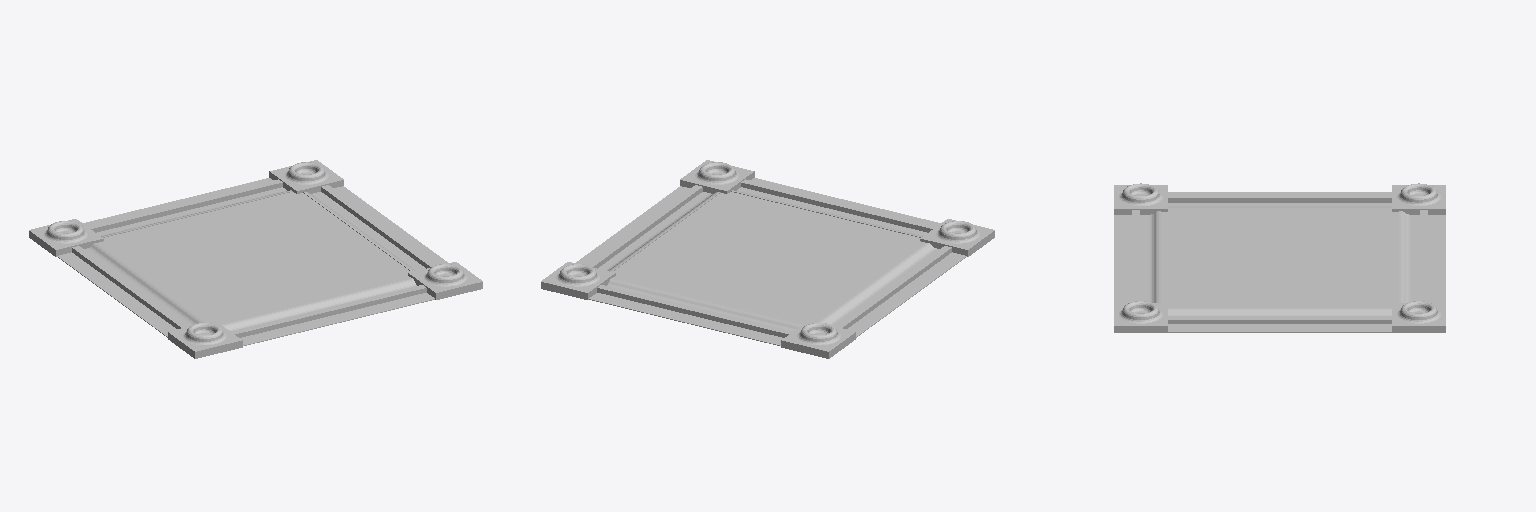
Rendered from Frame 1 1.obj.
3 renders of one model, left to right at view 1: azimuth 30°, elevation 25°; view 2: azimuth 150°, elevation 25°; view 3: azimuth 270°, elevation 25°, orthographic.
Visible parts, largest first — view 1: Frame_1:1; view 2: Frame_1:1; view 3: Frame_1:1.
Boxes of the visible parts, x1,y1,x2,y2 form: Frame_1:1: [29, 160, 482, 358]; Frame_1:1: [541, 160, 994, 358]; Frame_1:1: [1114, 183, 1445, 332].
Bounding box in the file's own units: 104 × 4.88 × 104.